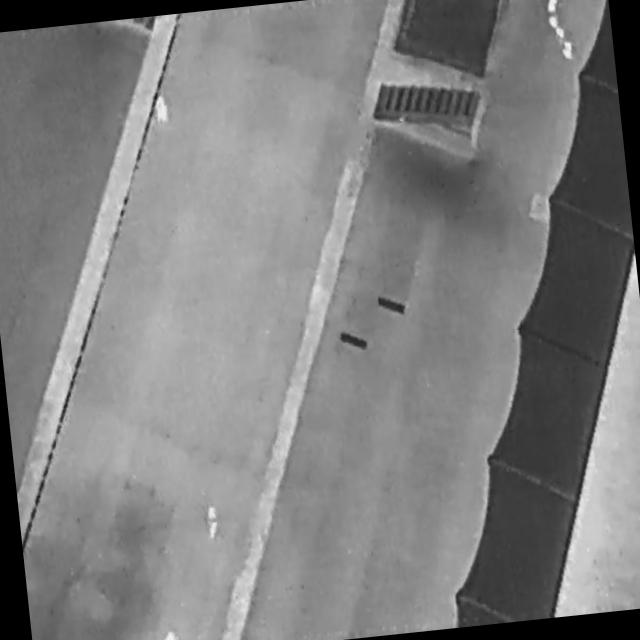person: (205, 505, 221, 541), (153, 96, 171, 125), (160, 627, 181, 640)
